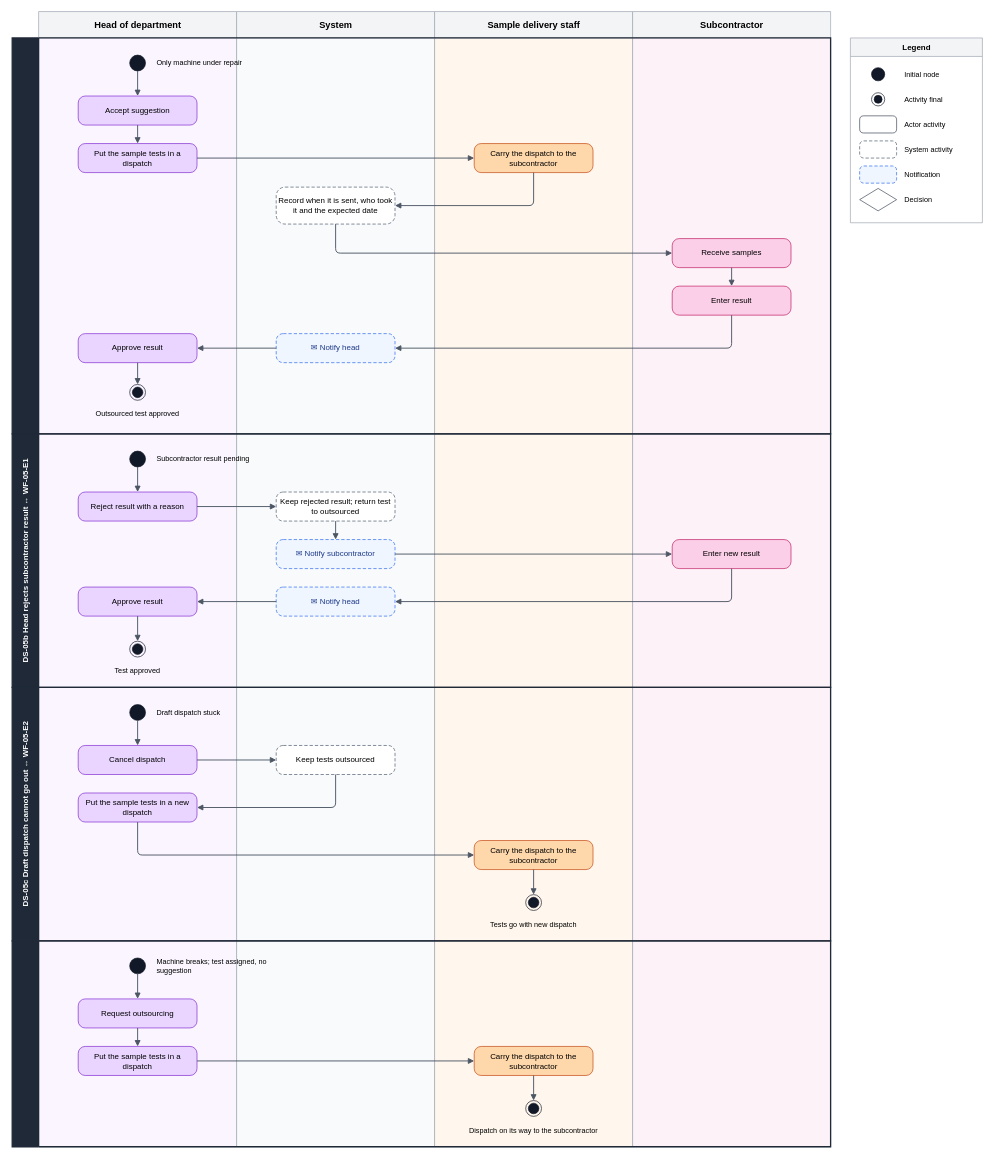
Some shapes in this 994 by 1159 pixel diagram are drawn without their labels. The centre of each missing label's shape, as x and y in pixels:
DS-05a Main: subcontractor result approved ↔ WF-05 Outsourced testing, main path: [421,235]
DS-05d Head outsources urgently ↔ WF-05-A3: [421,1043]
